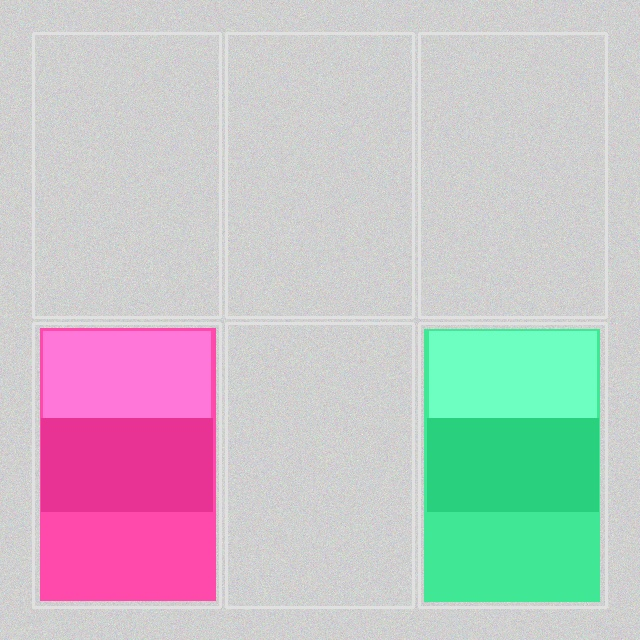space-empty: (35, 35, 218, 315), (228, 35, 411, 315), (421, 35, 604, 315), (228, 325, 411, 605)
space-occupied: (35, 325, 218, 605), (421, 325, 604, 605)
